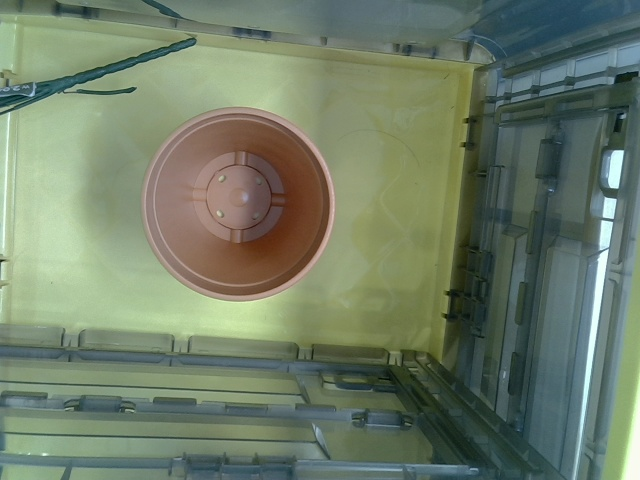화분: (140, 107, 336, 303)
